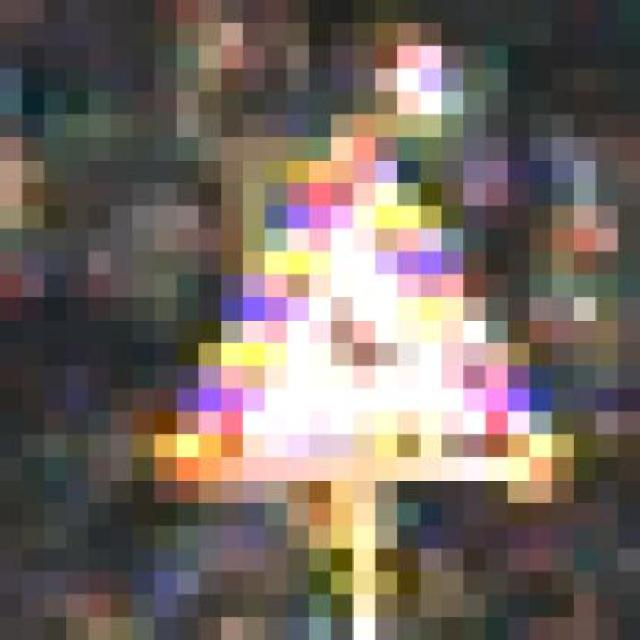Left Zig Zag Traffic: (111, 91, 574, 548)
